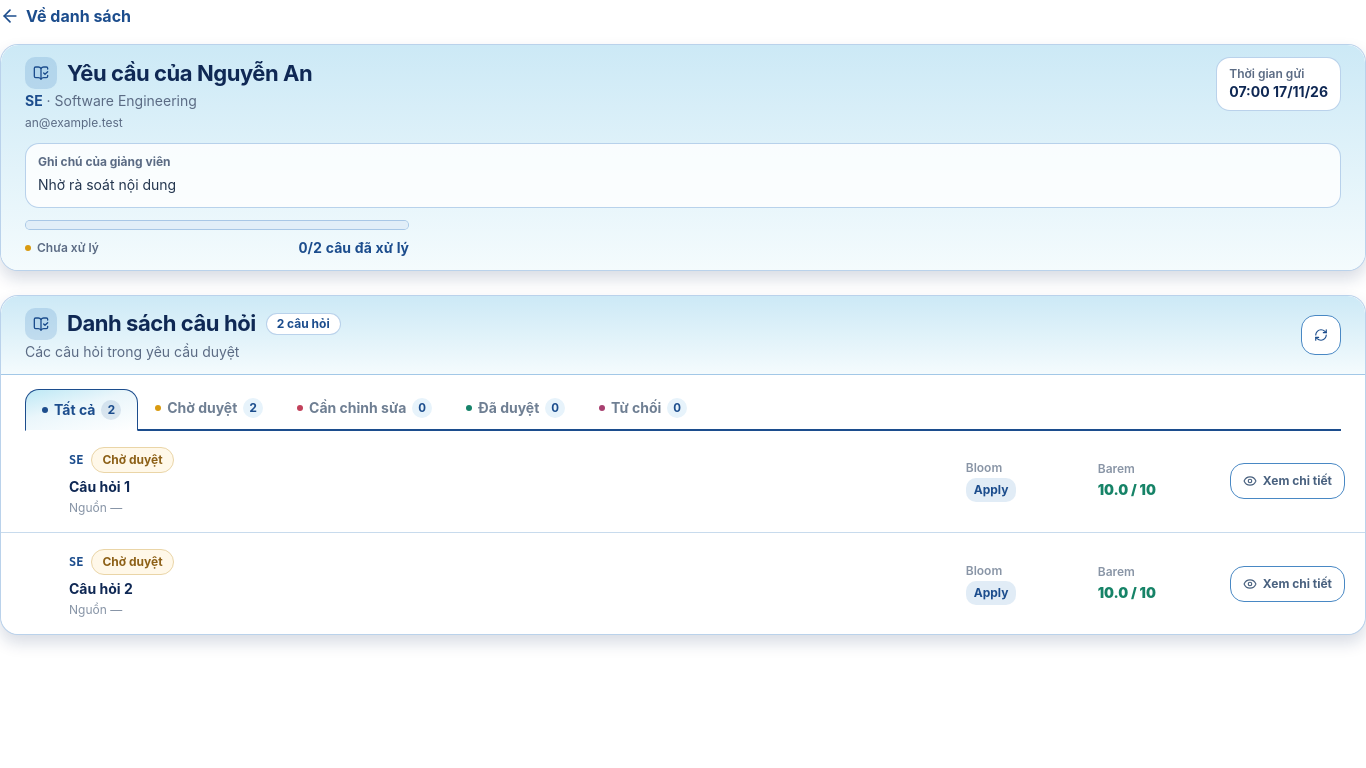
Test: Question review requests › opens the complete snapshot and requires a reason for revision
Later steps or results of the test are not shown.
expect the text "Nhờ rà soát nội dung" is shown: met, box [38,176,176,193]
Step 1. Click the button "Xem chi tiết" in the row of "Câu hỏi 1" → [1287, 481], box [1230,463,1345,499]
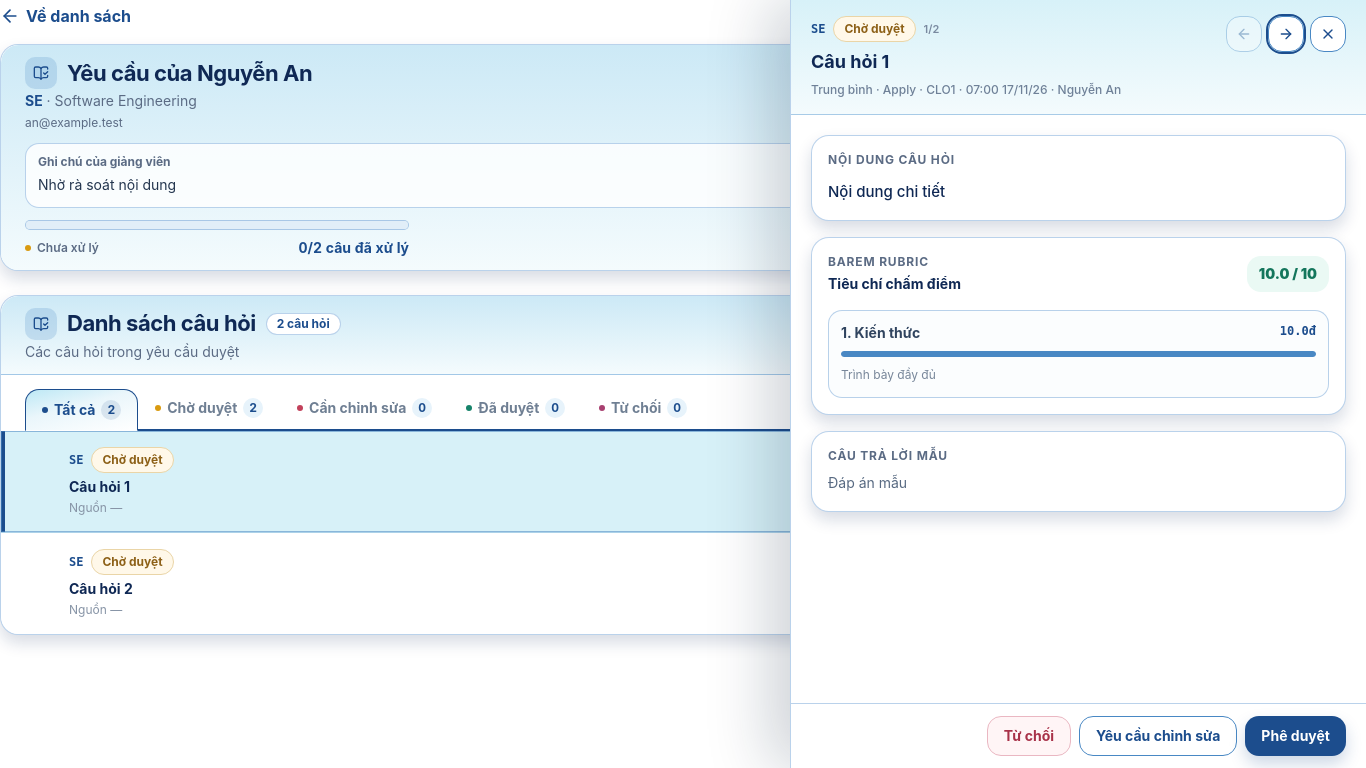
expect the text "Nội dung chi tiết" is shown: met, box [828,182,945,201]
expect the text "Đáp án mẫu" is shown: met, box [828,474,907,491]
Step 2. Click the button "Yêu cầu chỉnh sửa" → [1158, 736], box [1079,716,1237,756]
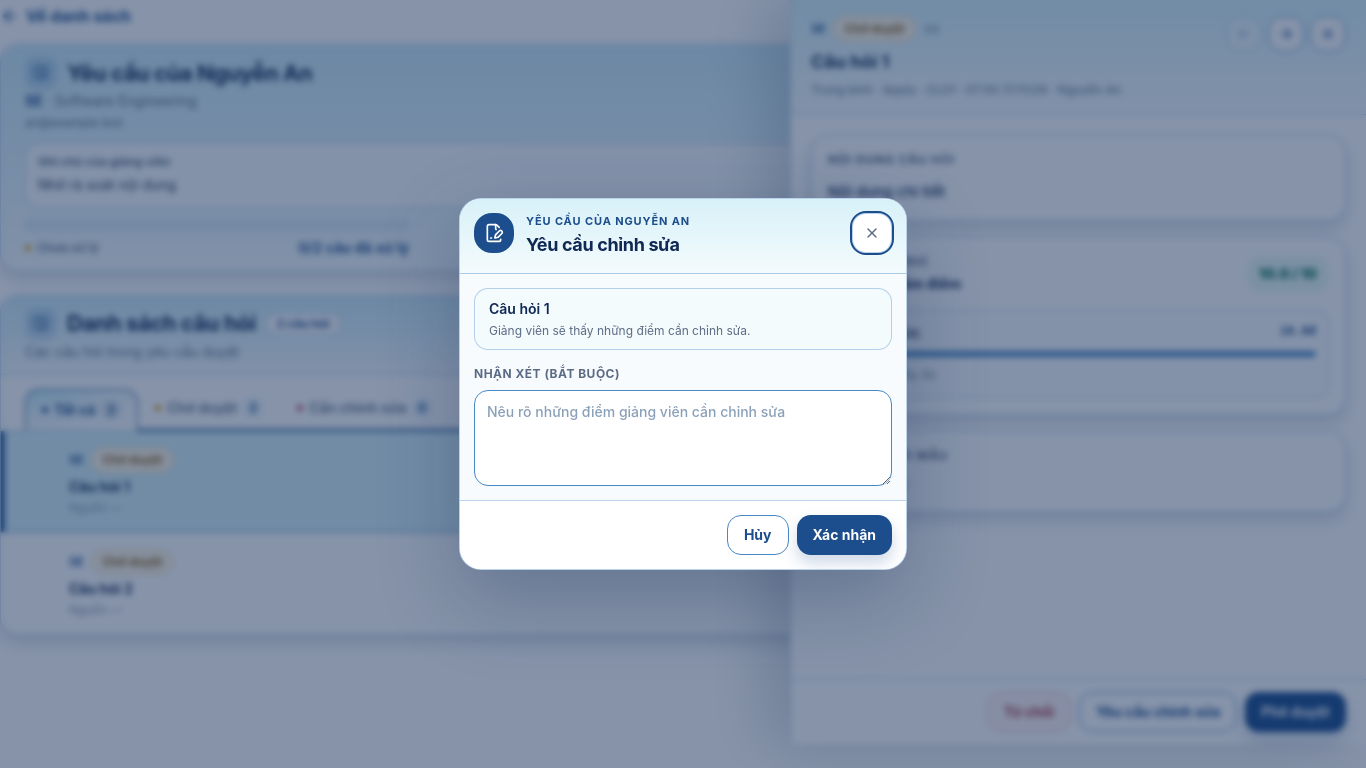
Step 3. Click the button "Xác nhận" → [844, 535], box [796,515,892,555]
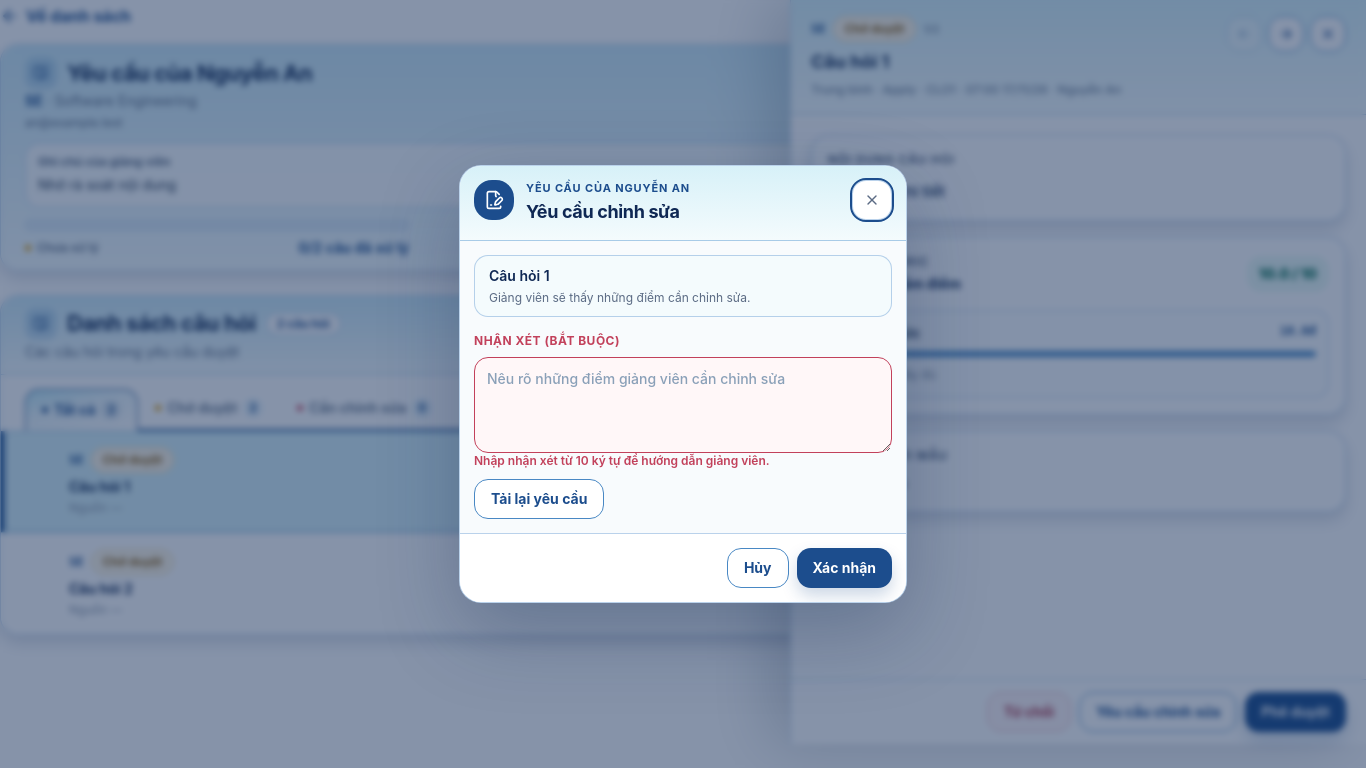
expect the text "Nhập nhận xét từ 10 ký tự để hướng dẫn giảng viên." is shown: met, box [474,453,770,468]
